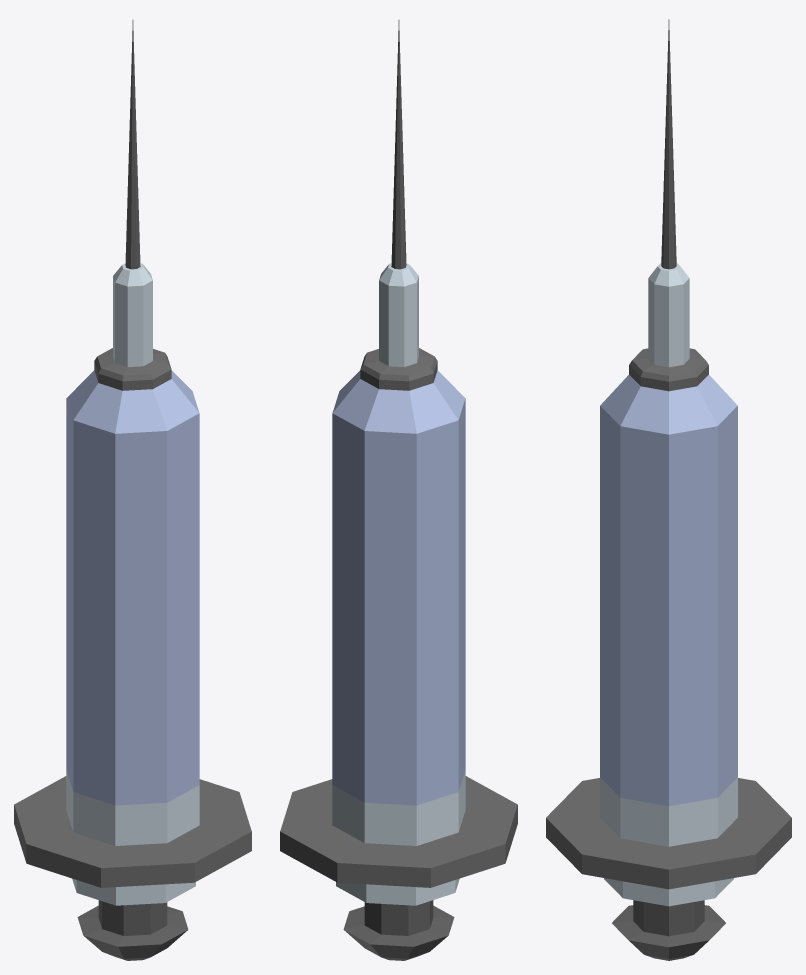
Rendered from syringe.fbx.
3 views of the same model, side by side, from view 1: azimuth 30°, elevation 25°; view 2: azimuth 150°, elevation 25°; view 3: azimuth 270°, elevation 25° (orthographic).
Visible parts, largest first — view 1: Cylinder; view 2: Cylinder; view 3: Cylinder.
Boxes of the visible parts, x1=… form: Cylinder: x1=14, y1=20, x2=251, y2=960; Cylinder: x1=280, y1=20, x2=517, y2=960; Cylinder: x1=546, y1=19, x2=791, y2=960.
Bounding box in the file's own units: 338 × 1421 × 338.
